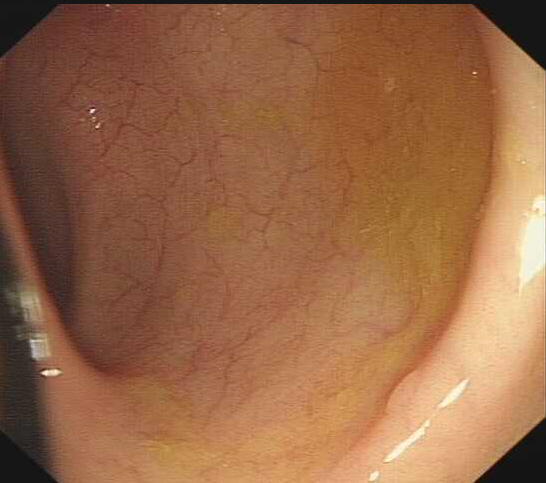others: (379, 365, 427, 416)
